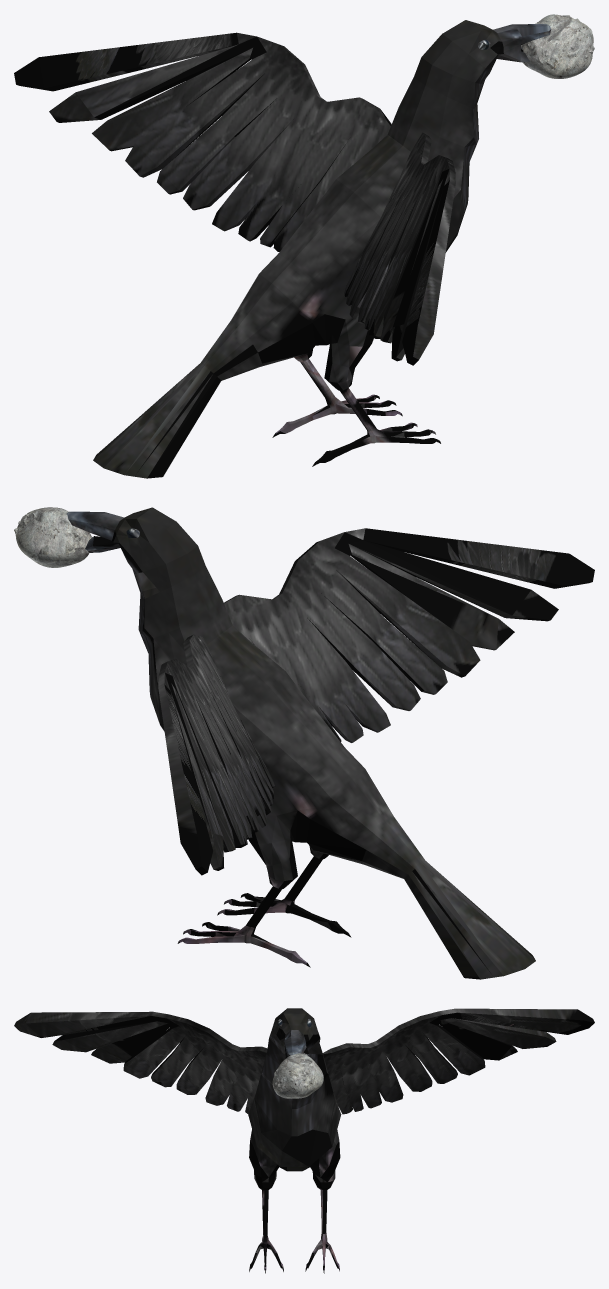
File: crowTextureAnimPebble_000014.obj
3 renders of one model, top to bottom at view 1: azimuth 30°, elevation 25°; view 2: azimuth 150°, elevation 25°; view 3: azimuth 270°, elevation 25°, orthographic. The views are drawn at different scales.
Parts seen in each view (by area): view 1: Cylinder.001, Cylinder.002, Cylinder.003, Icosphere_Icosphere.002; view 2: Cylinder.001, Cylinder.003, Cylinder.002, Icosphere_Icosphere.002; view 3: Cylinder.002, Cylinder.003, Cylinder.001, Icosphere_Icosphere.002.
Boxes of the visible parts, x1,y1,x2,y2 form: Cylinder.001: [93, 20, 551, 478]; Cylinder.002: [14, 32, 391, 251]; Cylinder.003: [344, 132, 455, 365]; Icosphere_Icosphere.002: [521, 14, 594, 78]; Cylinder.001: [66, 507, 535, 979]; Cylinder.003: [224, 528, 594, 742]; Cylinder.002: [158, 634, 275, 875]; Icosphere_Icosphere.002: [14, 507, 92, 567]; Cylinder.002: [322, 1008, 594, 1114]; Cylinder.003: [14, 1011, 267, 1113]; Cylinder.001: [248, 1008, 341, 1273]; Icosphere_Icosphere.002: [272, 1053, 323, 1098].
Size of the model in its own units: 5.55 by 4.1 by 7.62.
